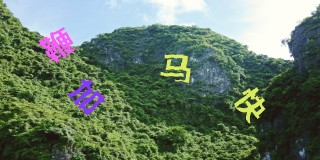加: (68, 78, 104, 115)
快: (234, 86, 266, 124)
鞭: (39, 27, 76, 62)
马: (159, 52, 191, 83)
